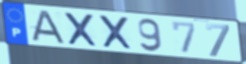7: (204, 23, 232, 58), (170, 20, 198, 55)
9: (137, 17, 164, 52)
A: (28, 10, 68, 46)
X: (62, 11, 100, 48), (97, 14, 135, 51)
